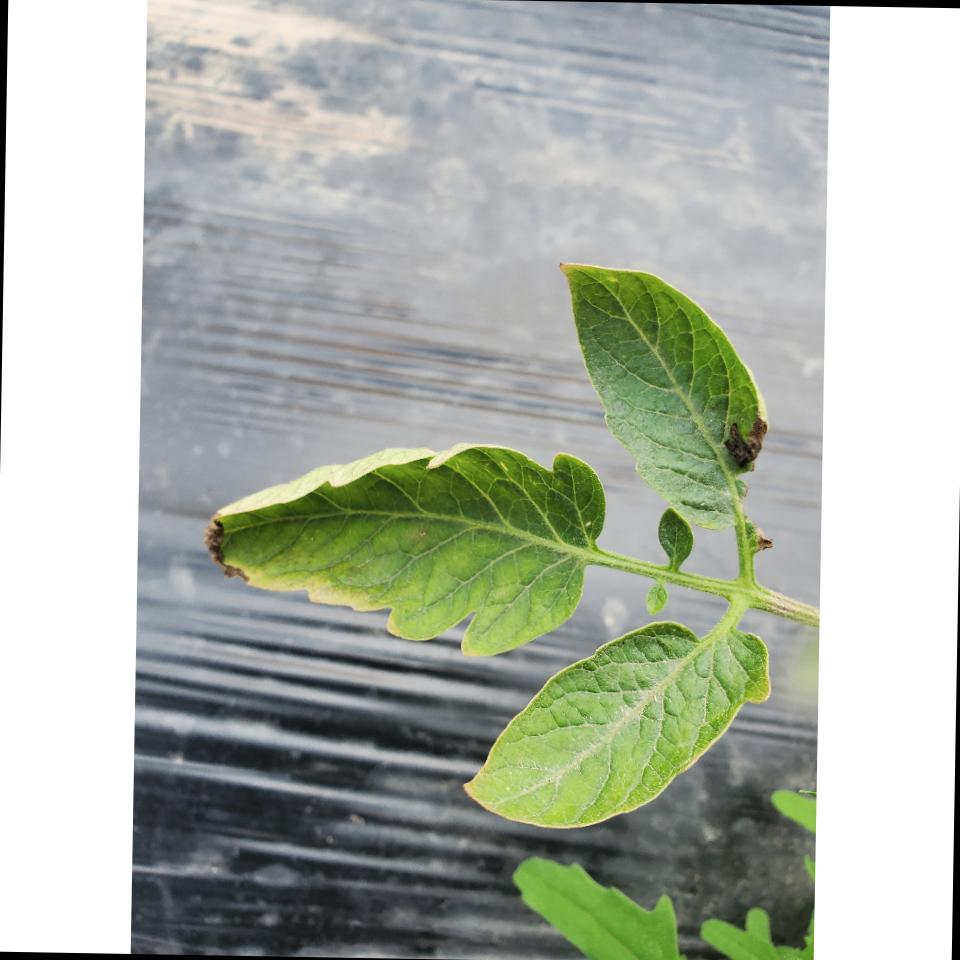tomato_yellow_leaf_curl_virus: (196, 436, 614, 660), (544, 252, 789, 550), (457, 612, 776, 832)
